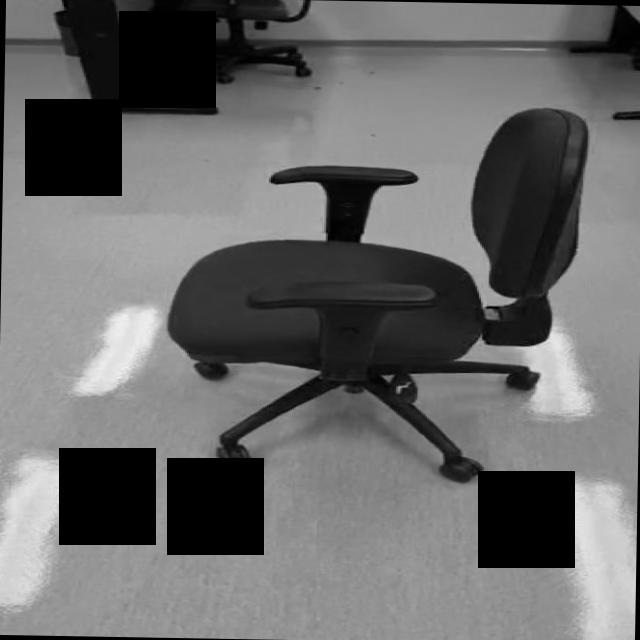chair: (162, 100, 588, 484)
